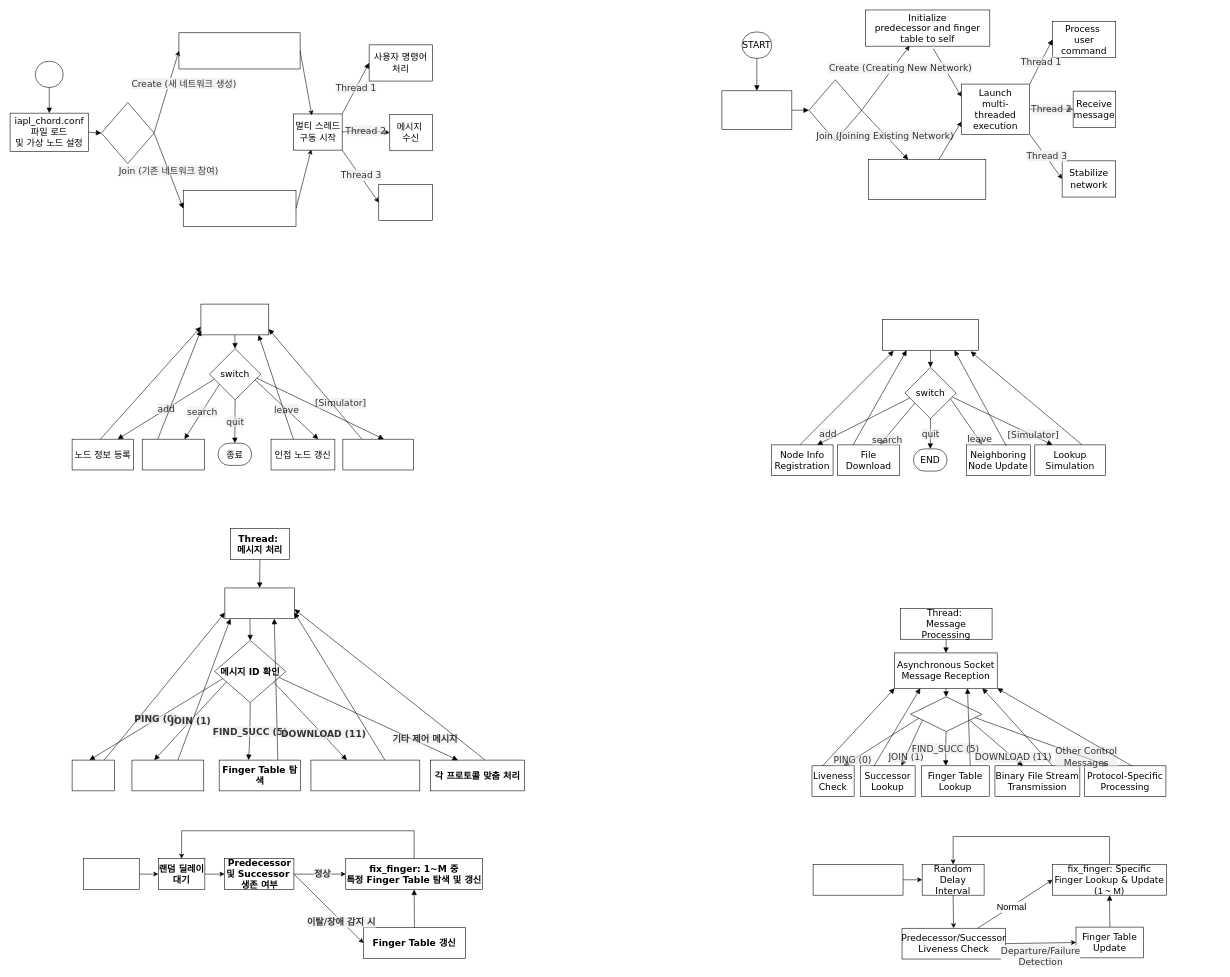
Some shapes in this 1230 by 977 pixel diagram are drawn without their labels. Here are the shapes that lost their labels. From the top down, the box of each, then its label:
(178, 32, 300, 69): Predecessor, Finger Table을 자기 자신으로 초기화
(35, 61, 63, 87): 시작
(721, 90, 792, 130): Load conf file and configure virtual nodes
(808, 79, 862, 141): Network Join Method
(101, 102, 154, 164): 네트워크 참여 방식
(868, 159, 986, 200): Request Join to Helper node and update own successor
(183, 190, 296, 227): Helper 노드에 Join 요청 후 자신의 Successor 갱신
(378, 184, 432, 221): 네트워크 안정화
(200, 304, 269, 335): Thread: 명령어 처리
(882, 319, 978, 350): Thread: Command Processing
(142, 439, 204, 470): 파일 다운로드
(342, 439, 414, 470): 탐색 시뮬레이션
(224, 587, 294, 619): 소켓 비동기 메시지 수신
(910, 696, 982, 732): Message ID Check
(72, 760, 114, 791): 생존 확인
(131, 760, 204, 791): Successor 탐색
(310, 760, 420, 791): 파일 바이너리 스트림 전송
(83, 858, 139, 889): Thread: 네트워크 관리
(813, 864, 903, 895): Thread: Network Management
